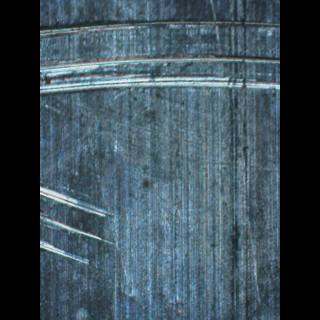d: (41, 15, 280, 102), (40, 175, 121, 281)
